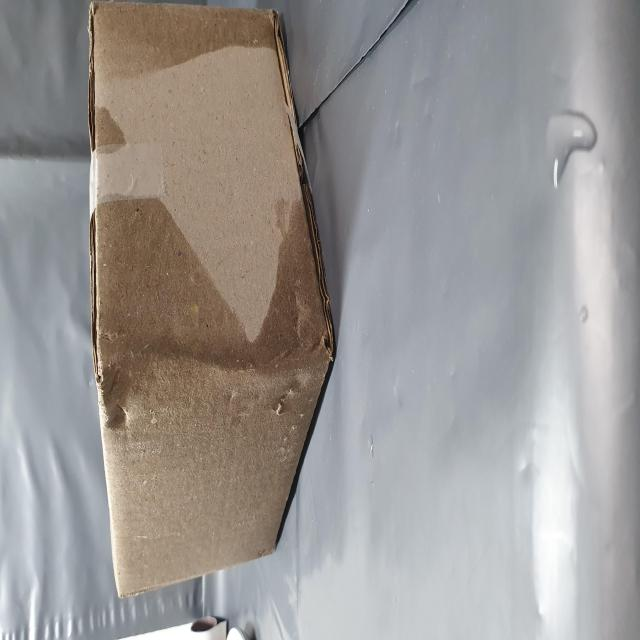wet: (32, 157, 360, 595)
